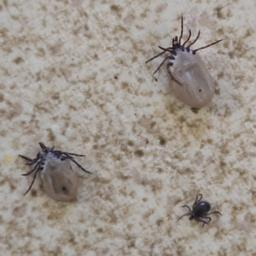Ixodes scapularis: (144, 14, 223, 107), (19, 143, 93, 200), (176, 196, 224, 227)
